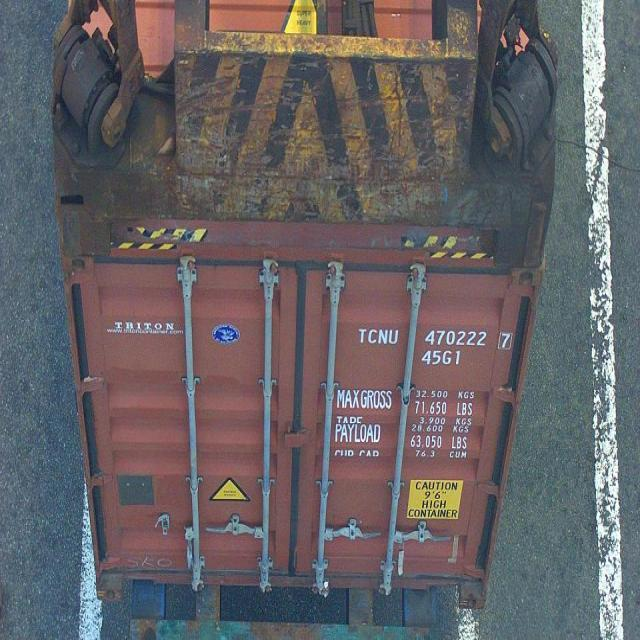ISO: (418, 348, 464, 368)
container_number: (353, 317, 513, 348)
